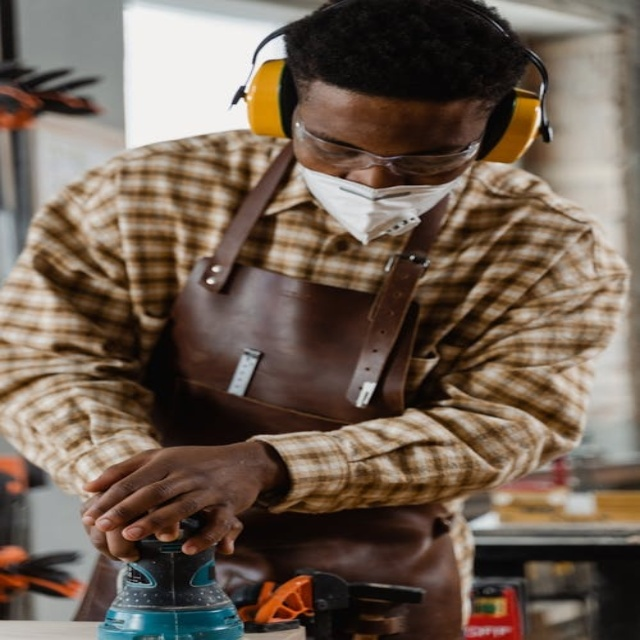Gafas: (294, 110, 489, 175)
Guantes: (0, 63, 106, 131)
Mascara: (294, 144, 468, 245)
Sin_guantes: (82, 438, 282, 562)
